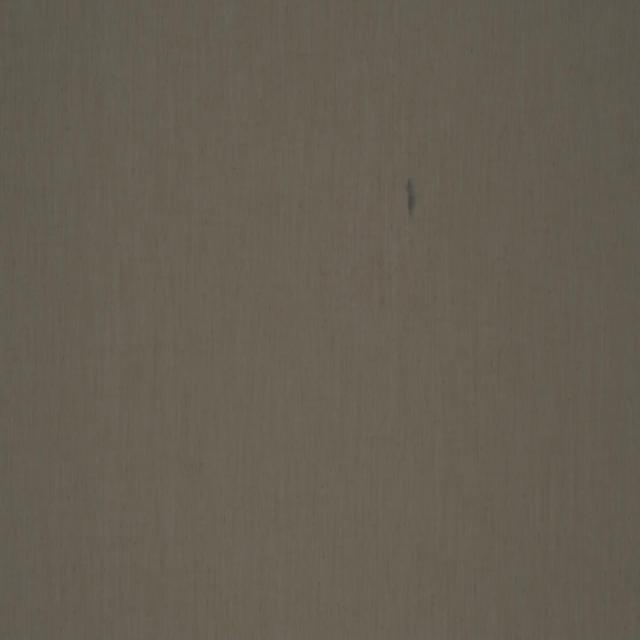dirty: (406, 174, 416, 214)
